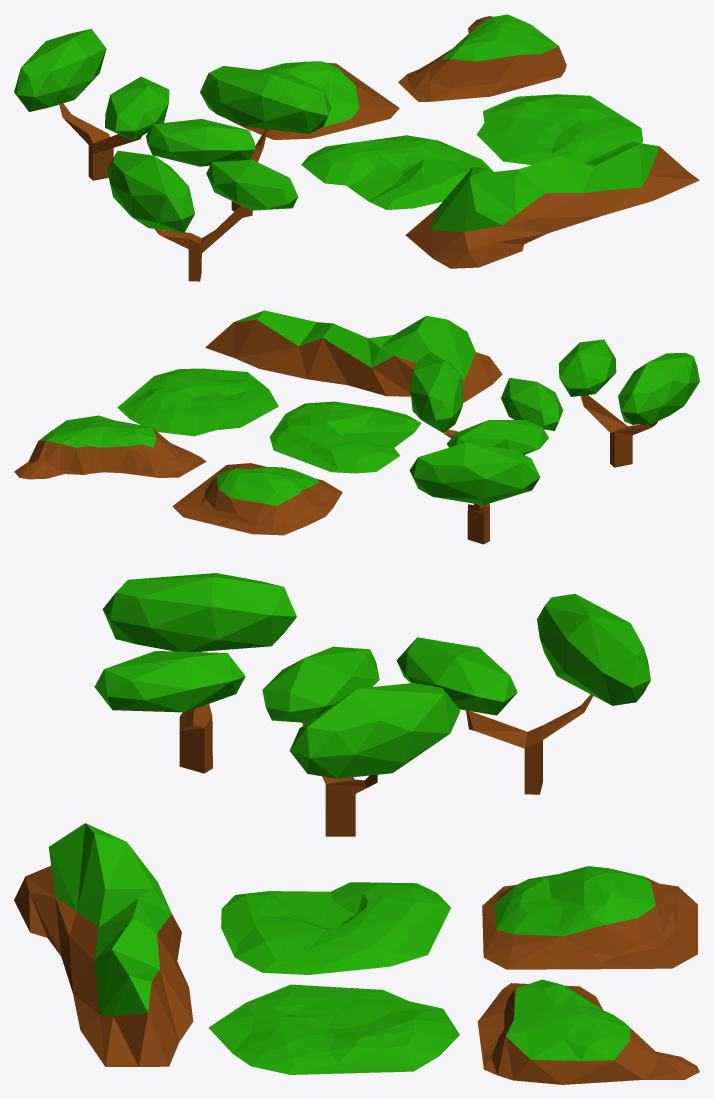
The model's file is grass.dae.
3 views of the same model, one above another, from view 1: azimuth 30°, elevation 25°; view 2: azimuth 150°, elevation 25°; view 3: azimuth 270°, elevation 25° (orthographic). The views are drawn at different scales.
Parts seen in each view (by area): view 1: Tree, GrassWall, Grass_003, Grass_001, Grass, Grass_002; view 2: Tree, GrassWall, Grass_002, Grass_003, Grass_001, Grass; view 3: Tree, GrassWall, Grass_002, Grass_001, Grass, Grass_003.
Part boxes in pixels (<box>): Tree: <box>14,28,331,281</box>; GrassWall: <box>405,141,699,268</box>; Grass_003: <box>398,14,566,101</box>; Grass_001: <box>301,135,493,209</box>; Grass: <box>477,94,643,164</box>; Grass_002: <box>227,61,399,139</box>; Tree: <box>409,339,699,544</box>; GrassWall: <box>205,310,502,402</box>; Grass_002: <box>172,463,342,535</box>; Grass_003: <box>14,415,206,479</box>; Grass_001: <box>270,401,421,473</box>; Grass: <box>117,368,278,436</box>; Tree: <box>94,573,650,836</box>; GrassWall: <box>14,823,193,1066</box>; Grass_002: <box>482,866,697,969</box>; Grass_001: <box>221,882,450,974</box>; Grass: <box>208,984,459,1074</box>; Grass_003: <box>477,979,699,1084</box>.
Size of the model in its own units: 27.82 by 21.81 by 5.88.
